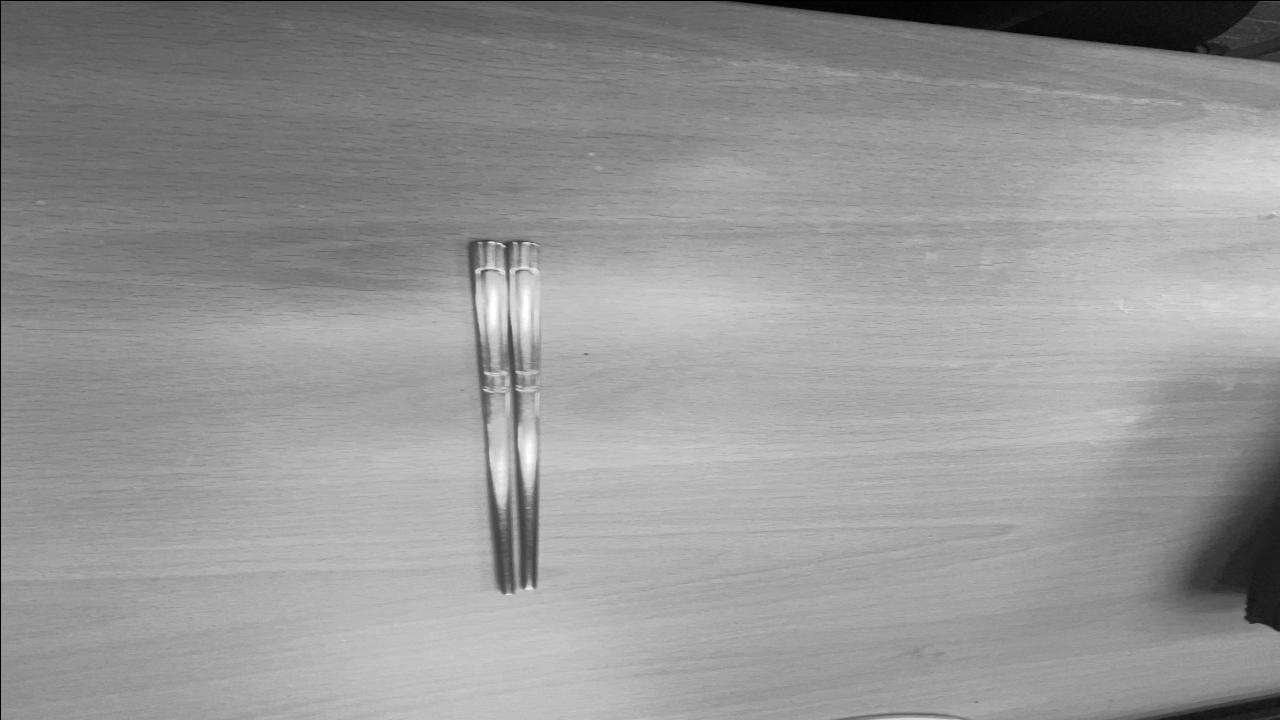chopstick: (464, 238, 546, 598)
